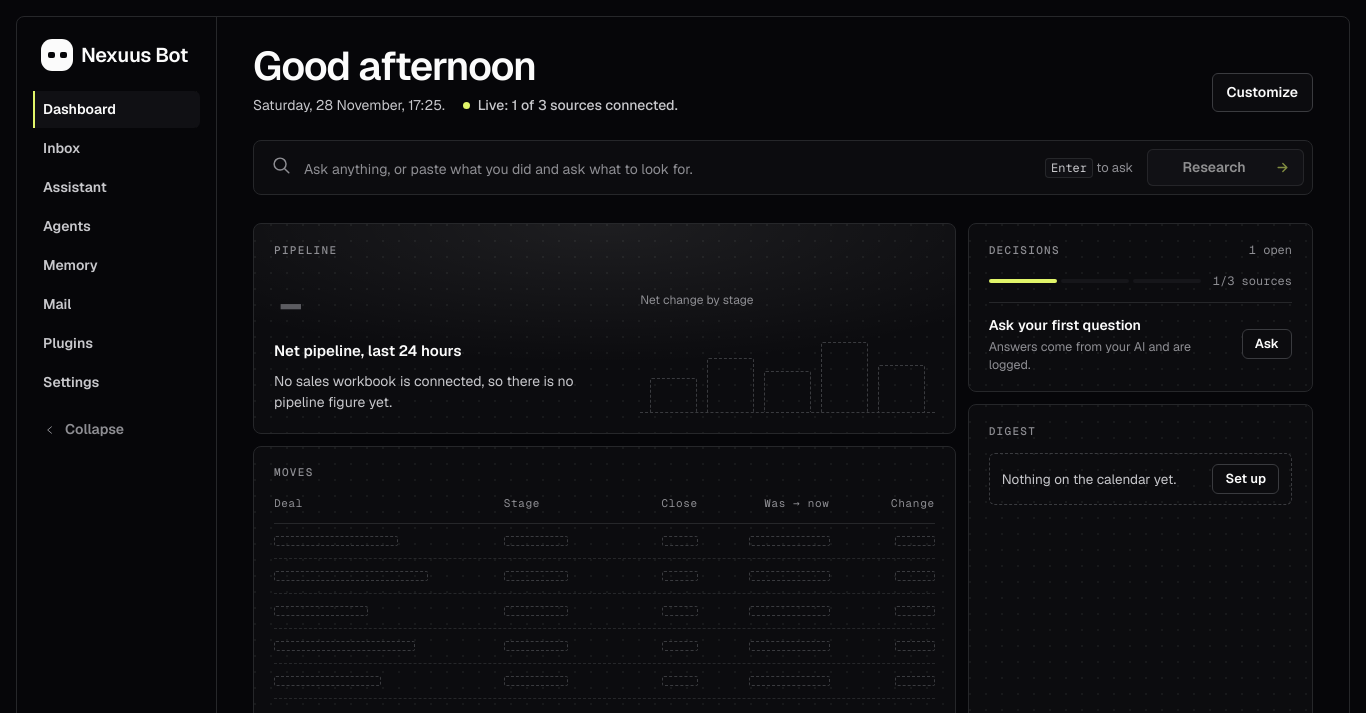
customize mode › holds every save control and shows the started one until the layout answers
Later steps or results of the test are not shown.
What coordinates should you click on to do the following:
click the button "Customize"
I would click on:
 (1262, 92)
Its box is [1212,73,1313,112].
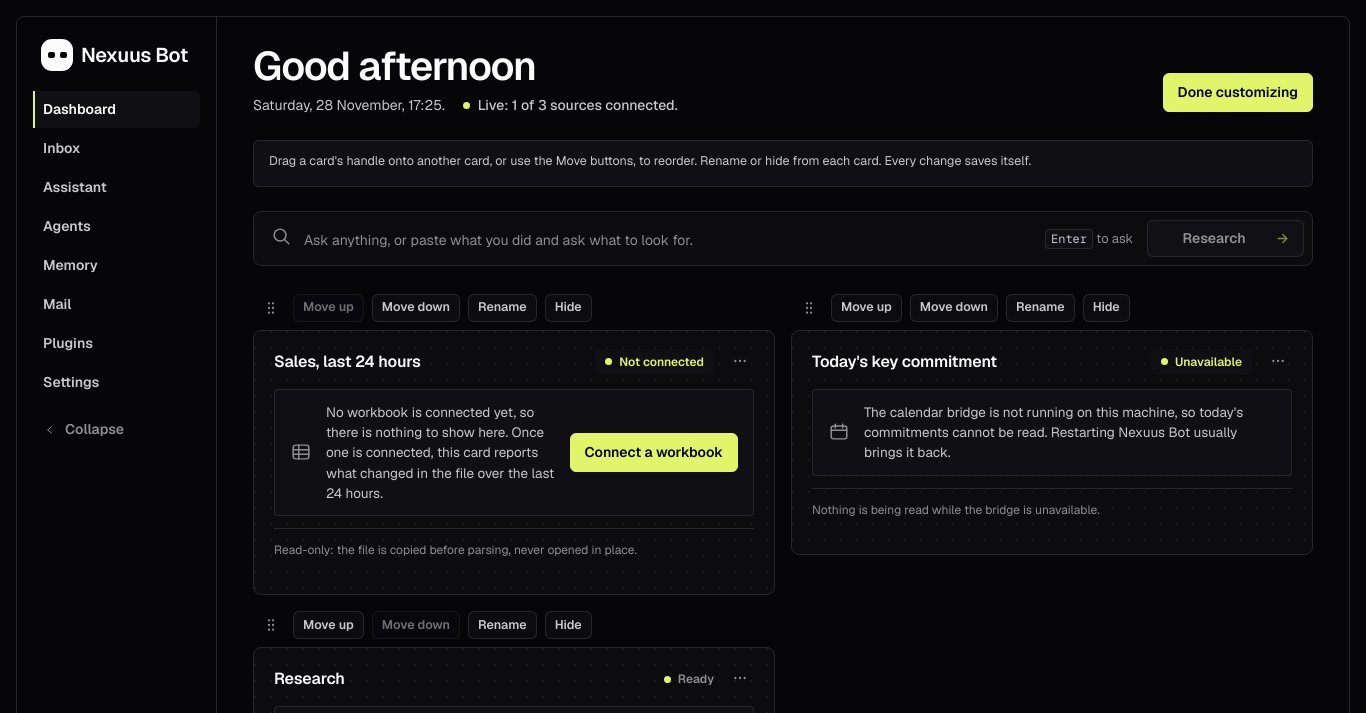
Expected: the button "Done customizing" is shown, [1163,73,1313,112]
What coordinates should you click on to do the following:
click the button with aria-label "Hide Research"
I would click on:
 (568, 625)
Its box is [545,611,592,639].
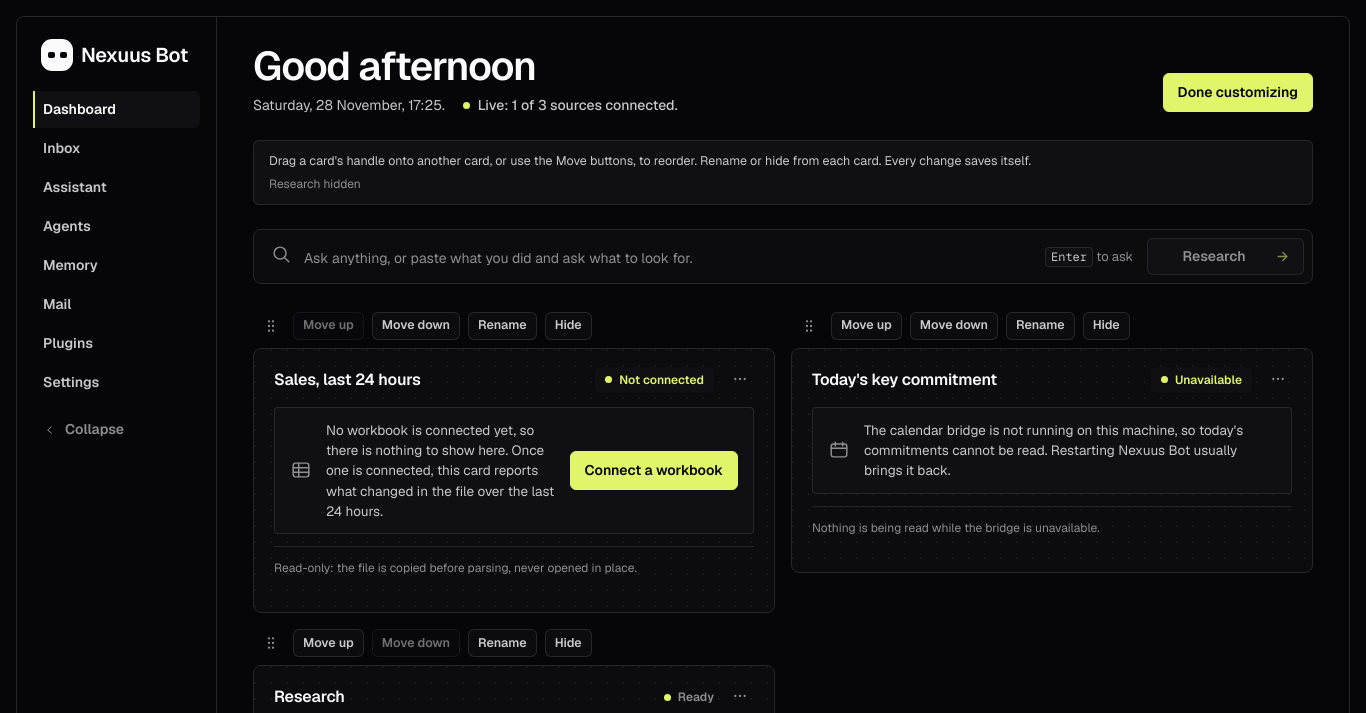
Expected: the text "Research hidden" is shown, [269,176,361,192]
